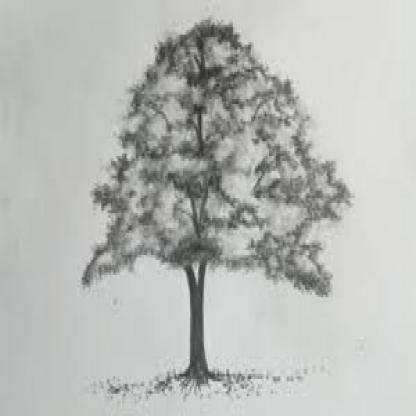branch_cut: (182, 252, 212, 293)
crown_dizzy: (74, 8, 357, 304)
root_none: (174, 362, 225, 397)
trunk_straight: (186, 305, 208, 348)
